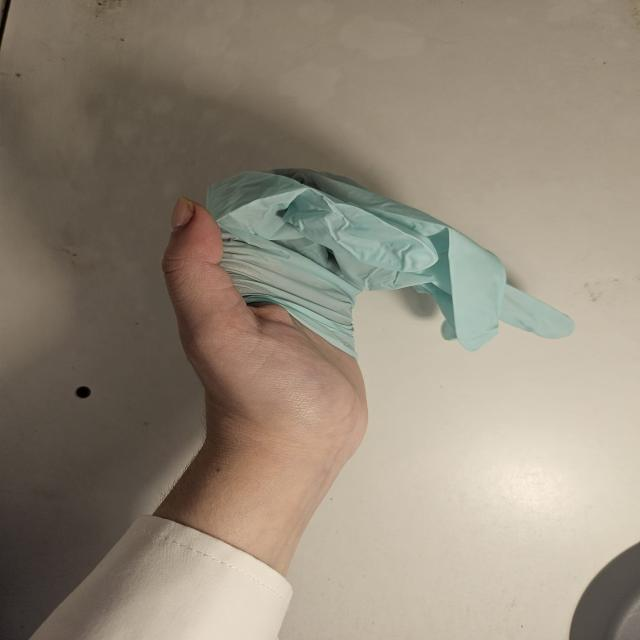glove_partial: (157, 168, 576, 427)
